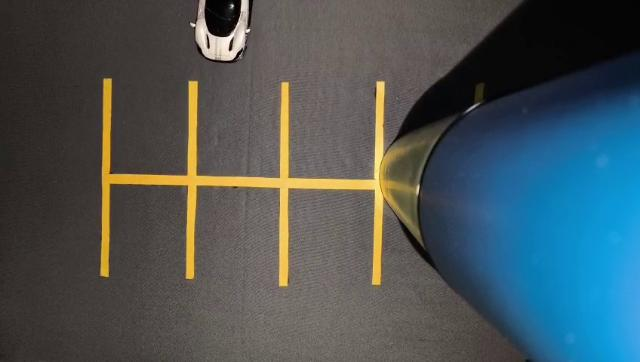toy_car: (168, 0, 278, 86)
